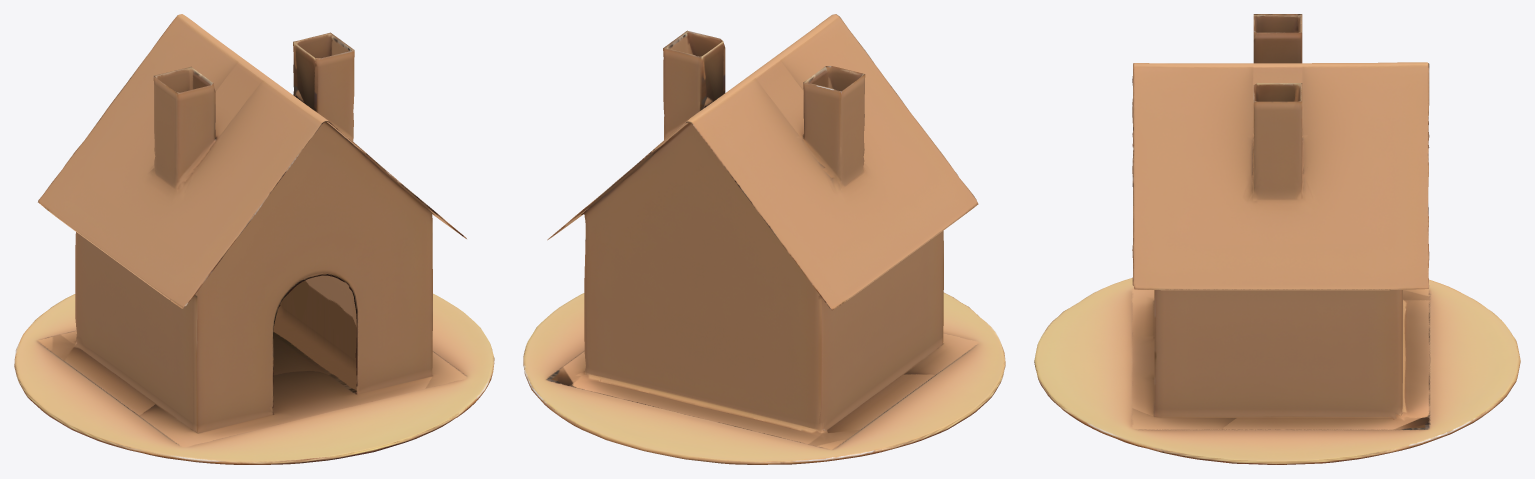
File: base_basic_shaded.glb
The picture shows the model from 3 angles, left to right: view 1: azimuth 30°, elevation 25°; view 2: azimuth 150°, elevation 25°; view 3: azimuth 270°, elevation 25°; orthographic projection.
Visible parts, largest first — view 1: model; view 2: model; view 3: model.
Boxes of the visible parts, <box> form: model: <box>14,14,494,464</box>; model: <box>523,14,1005,464</box>; model: <box>1034,14,1520,464</box>.
Size of the model in its own units: 1.9 by 1.31 by 1.9.
1 material, 1 textured.
